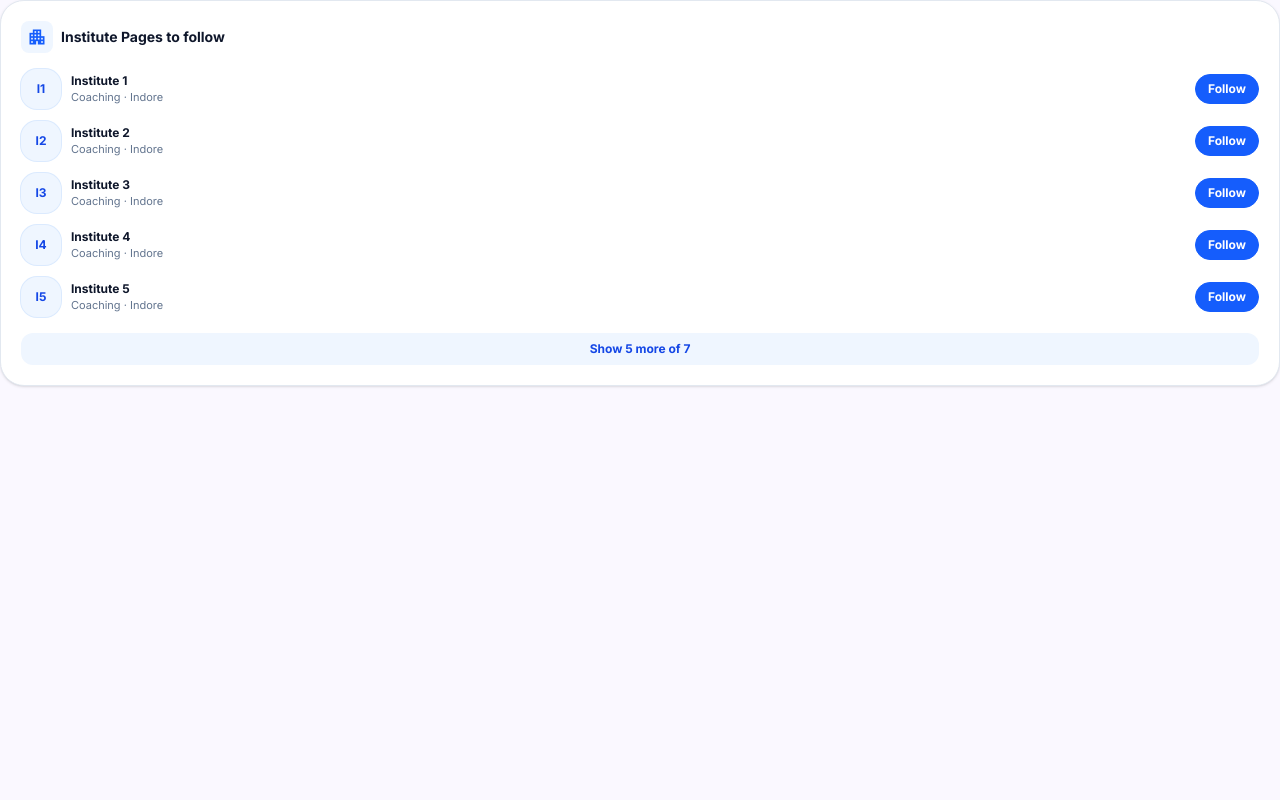
Scenario: SuggestionsRail › shows five at a time and reveals the rest a page at a time
Check: the text "Institute 5" is shown, box [71,281,130,296]
Check: the text "Institute 6" is not shown
Click the button "Show 5 more of 7".
click(640, 349)  # box [21,333,1259,365]
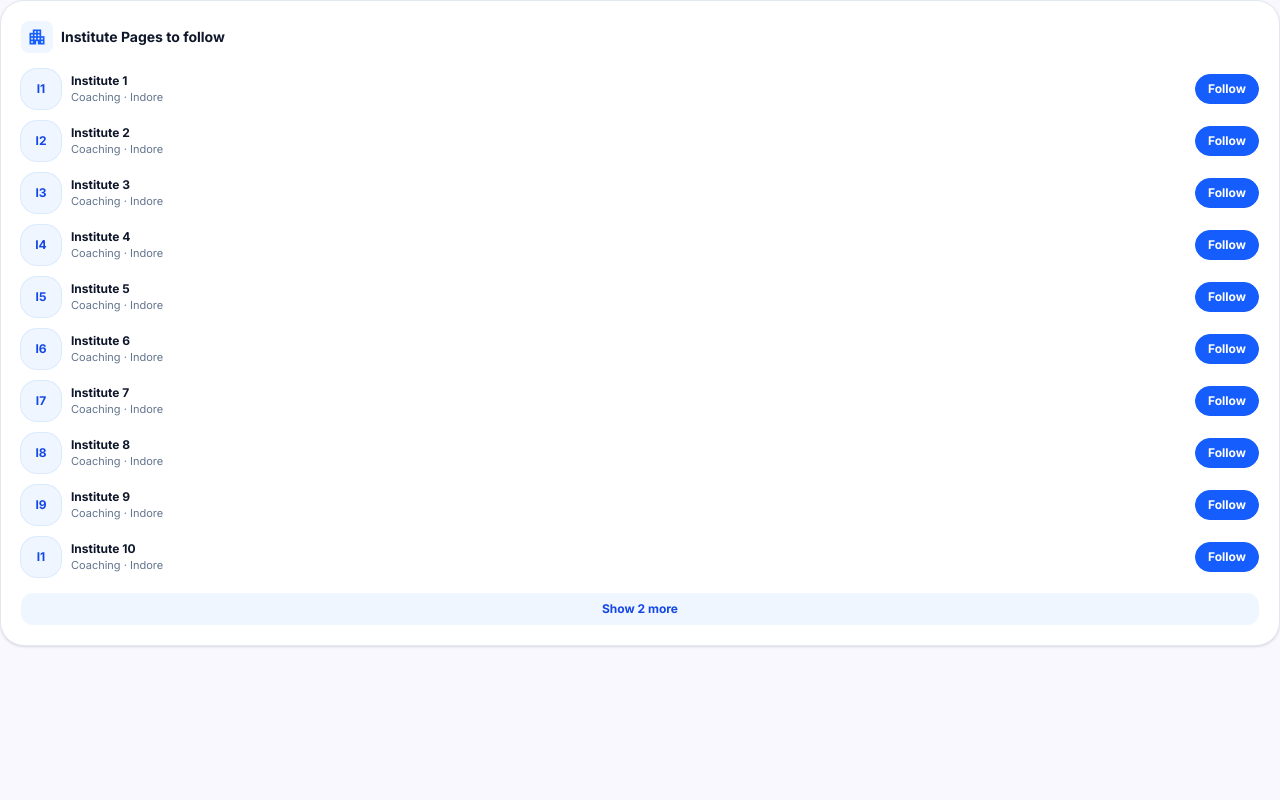
Check: the text "Institute 11" is not shown
Check: the text "Institute 10" is shown, box [71,541,136,556]
Click the button "Show 2 more".
click(640, 609)  # box [21,593,1259,625]
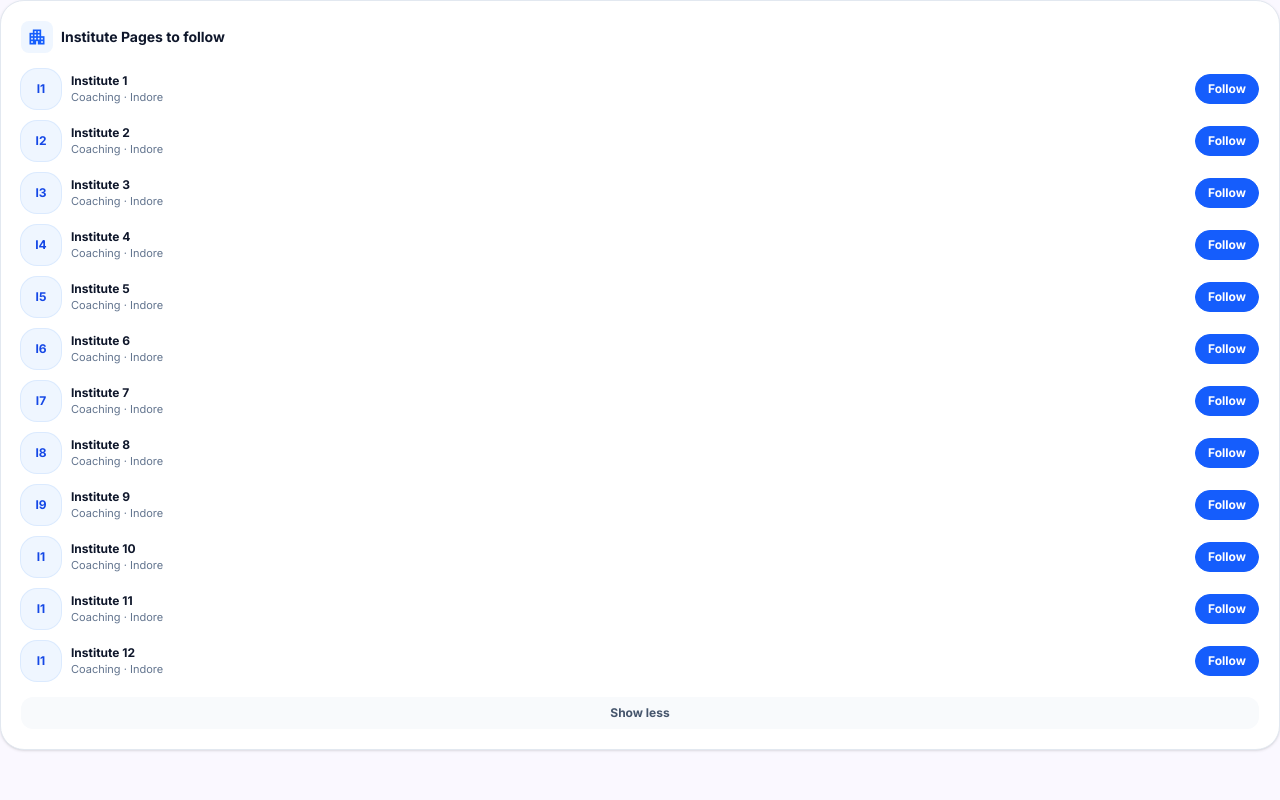
Check: the text "Institute 12" is shown, box [71,645,135,660]
Check: the button "Show less" is shown, box [21,697,1259,729]
